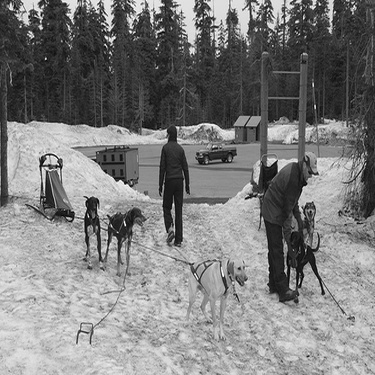dog: (166, 240, 251, 346), (231, 148, 295, 235), (262, 229, 333, 297), (66, 187, 116, 282), (100, 206, 153, 281), (283, 198, 325, 260)
